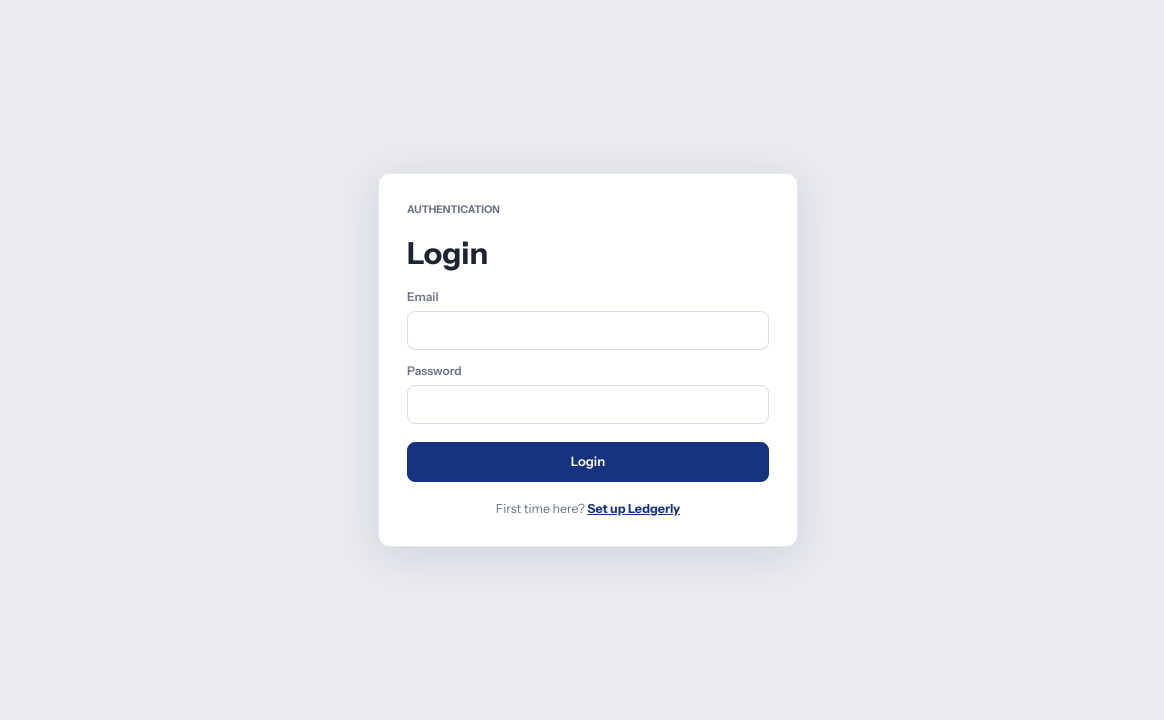
LoginScreen › returns to the URL query target after login
Type "owner@example.com" into the field labelled "Email" at (588, 330), box [407,311,769,350]
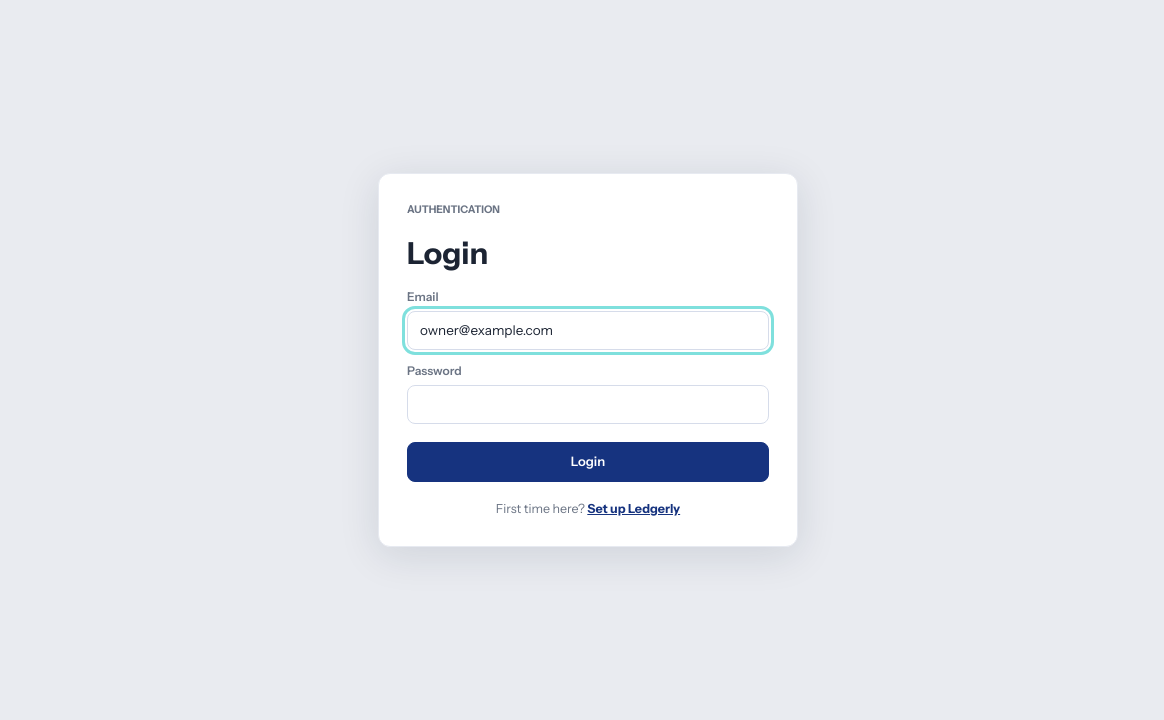
Type "correct password" into the password field labelled "Password" at (588, 404), box [407,385,769,424]
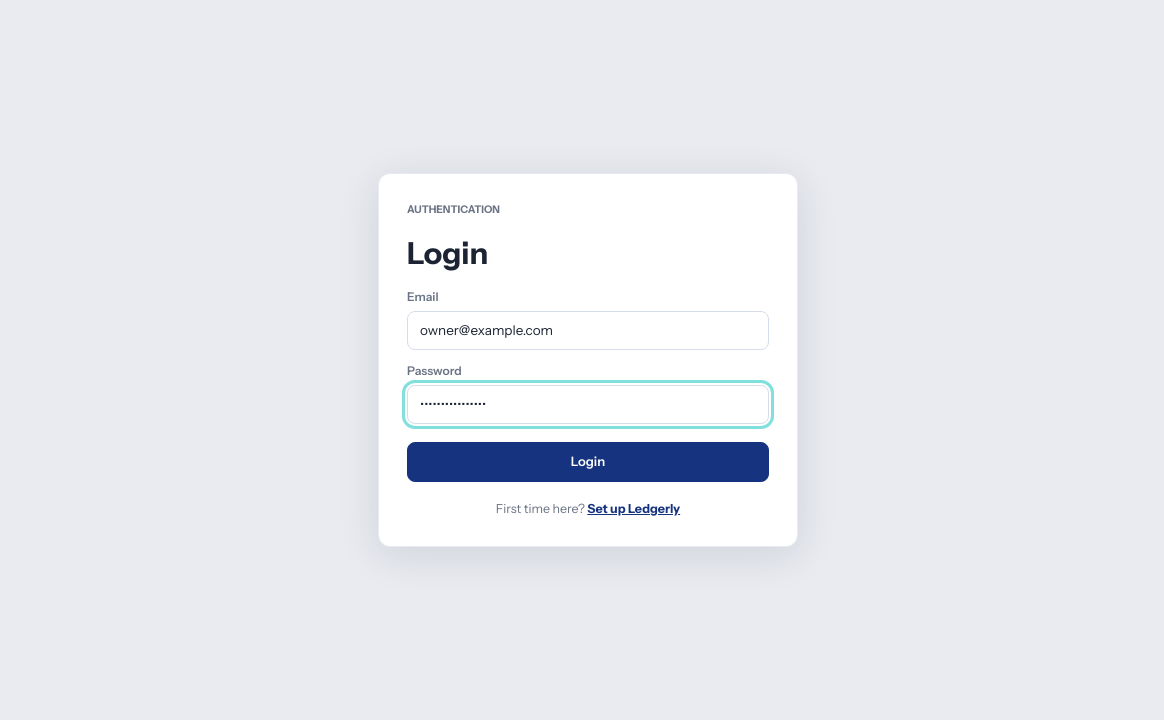
Click the button "Login" at (588, 462), box [407,442,769,482]
(page scrolled)
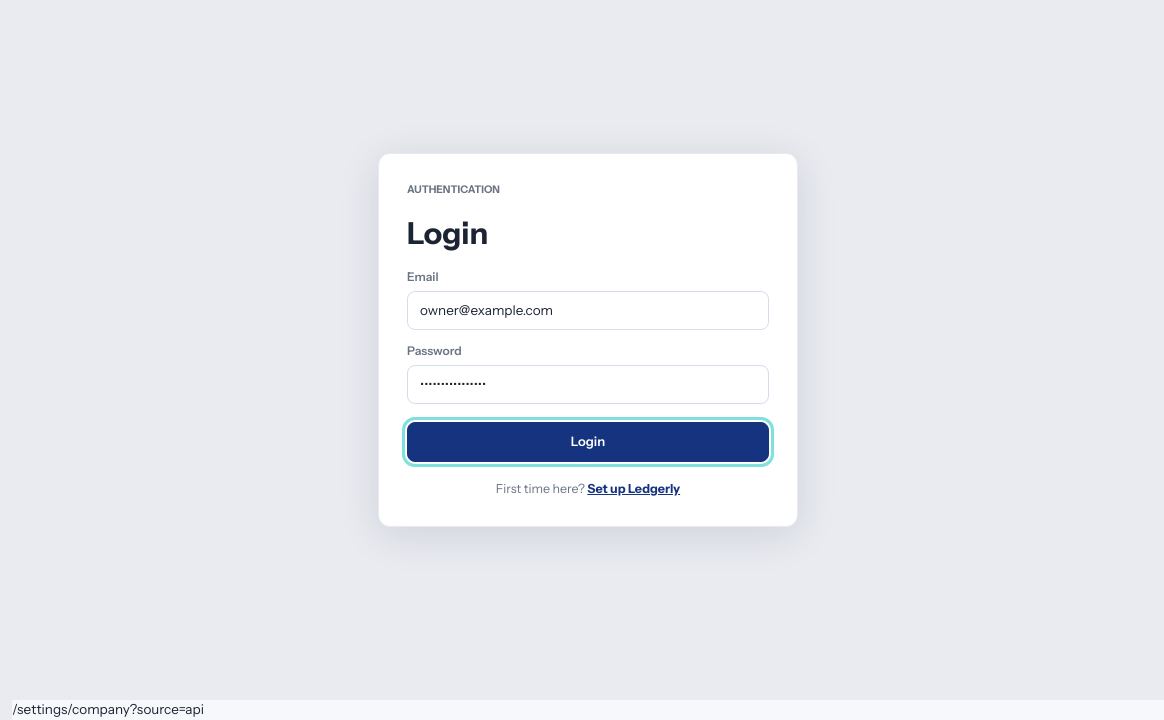
Expected: the text with test id "location" reads "/settings/company?source=api", [12,701,204,717]
